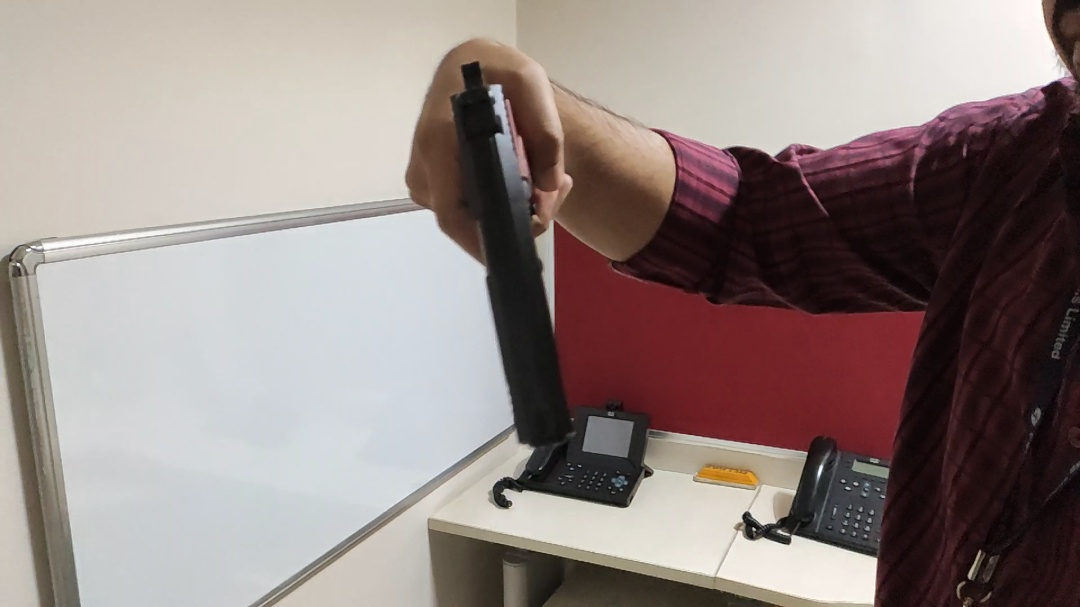gun: (410, 46, 594, 449)
